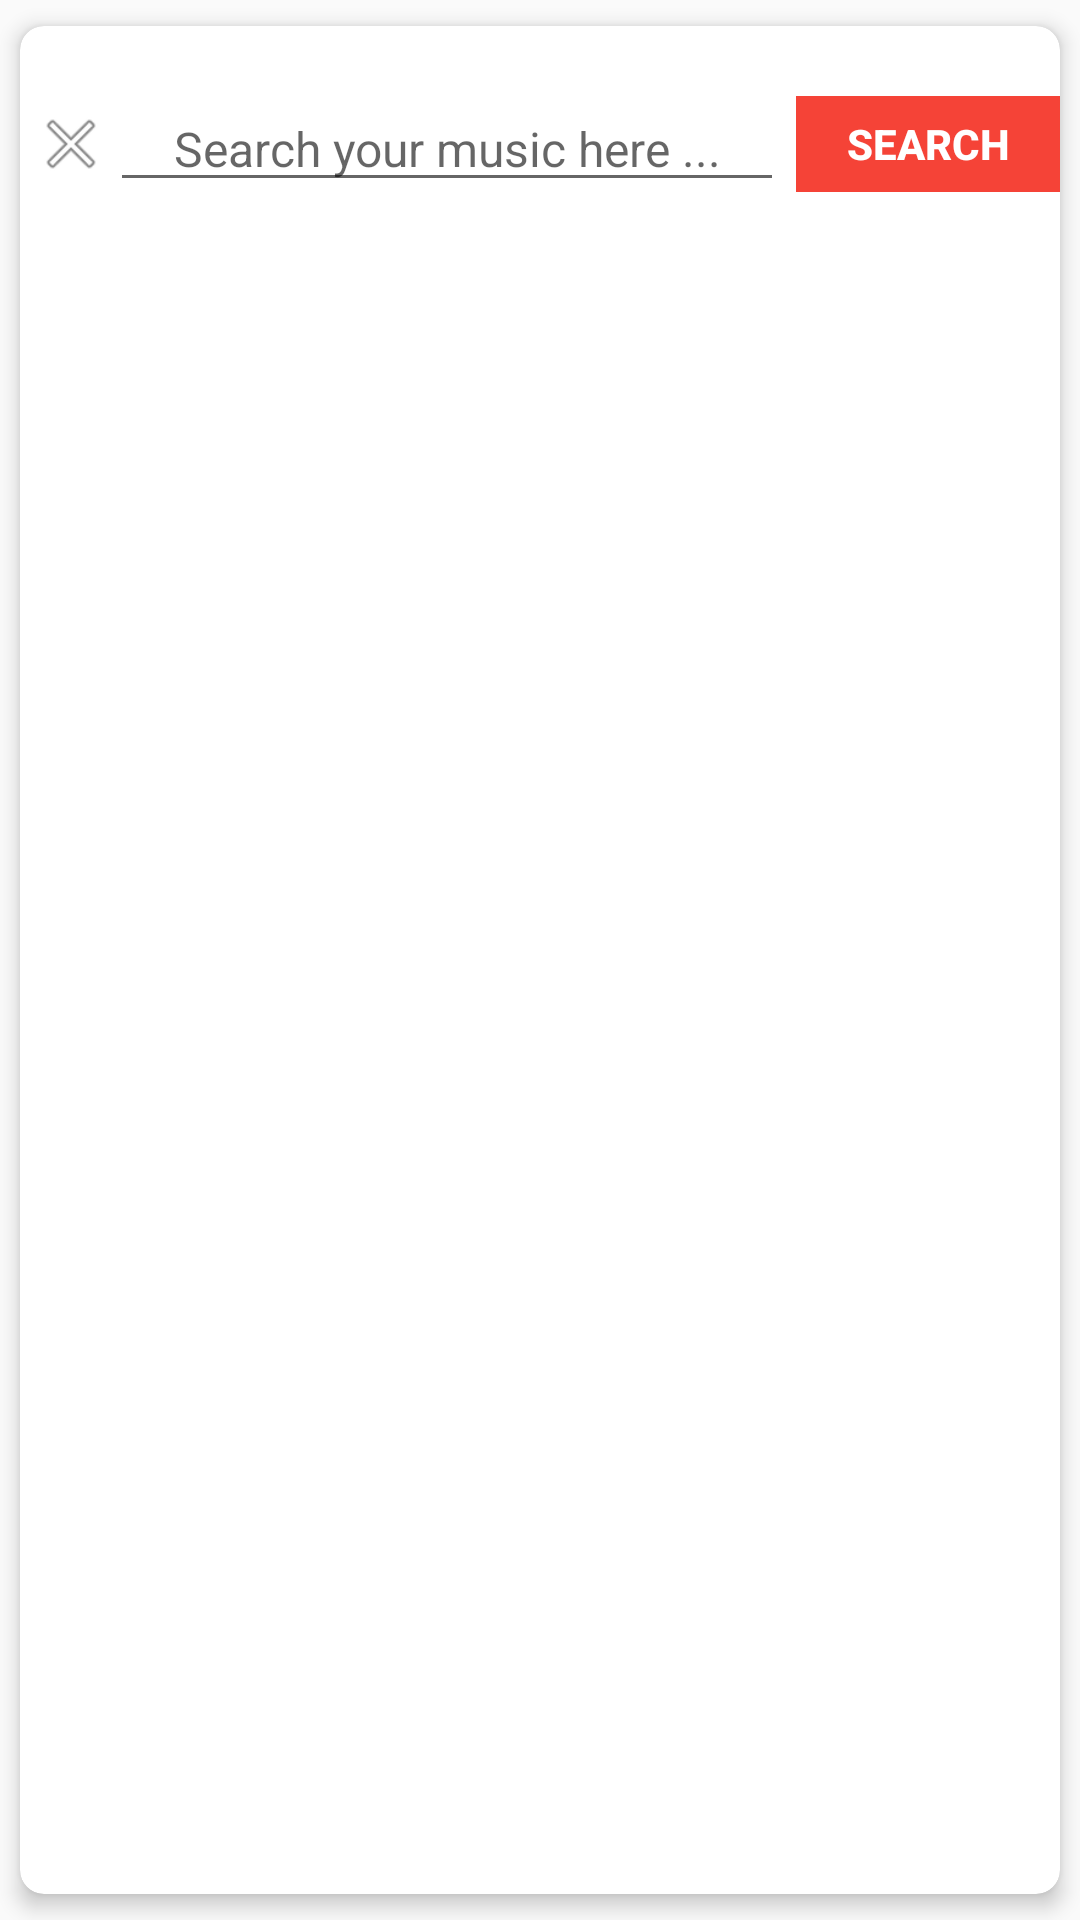

Screen size 1080px×1920px. Icon name, then its box in pixels as (x1,y1,x2,y2):
close clear cancel: (47,120,95,168)
